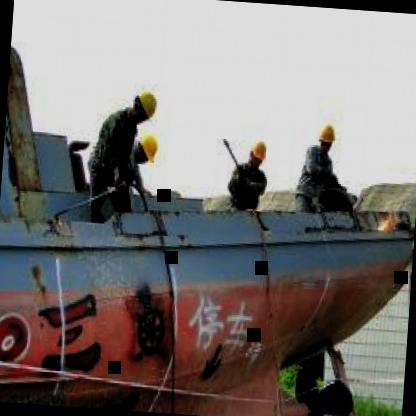helmet: (128, 127, 162, 170), (130, 85, 160, 126), (314, 123, 338, 157), (246, 140, 266, 168)
